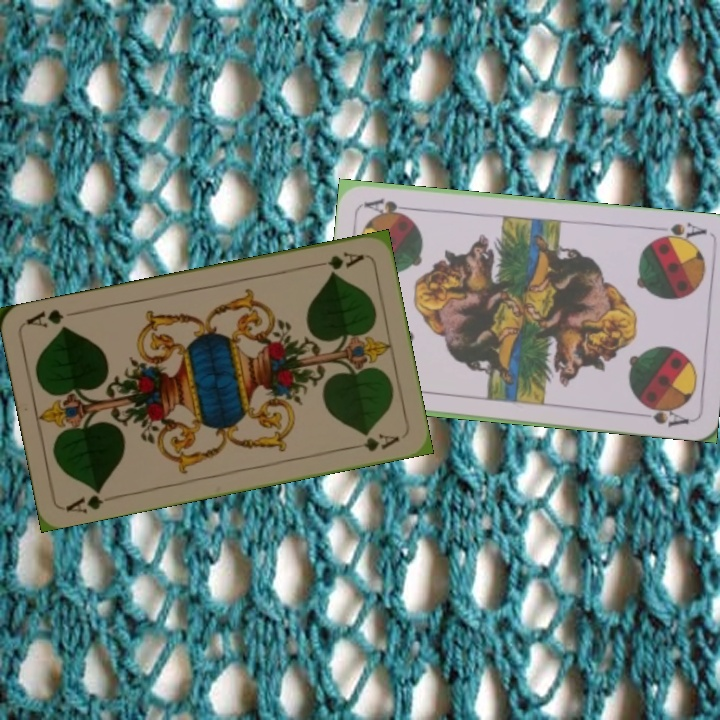GA: (61, 484, 107, 515), (323, 248, 367, 275)
SA: (650, 218, 710, 246)
